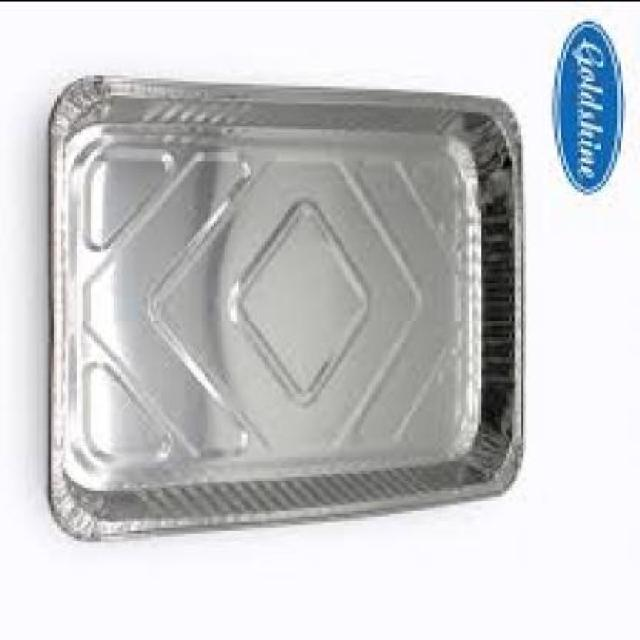METAL: (49, 71, 528, 538)
